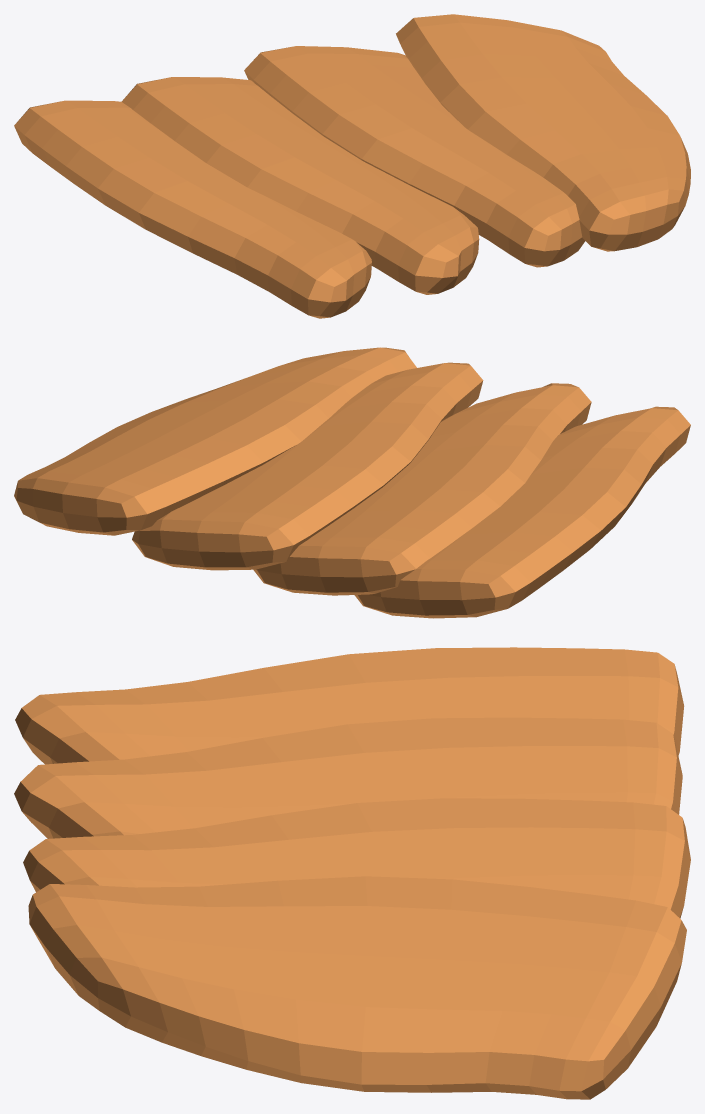
File: choppedsalmon.glb
The picture shows the model from 3 angles, top to bottom: view 1: azimuth 30°, elevation 25°; view 2: azimuth 150°, elevation 25°; view 3: azimuth 270°, elevation 25°; orthographic projection. The views are drawn at different scales.
Visible parts, largest first — view 1: choppedsalmon; view 2: choppedsalmon; view 3: choppedsalmon.
Boxes of the visible parts, bbox=[...] form: choppedsalmon: bbox=[14, 14, 690, 318]; choppedsalmon: bbox=[14, 347, 690, 618]; choppedsalmon: bbox=[14, 647, 690, 1099].
Size of the model in its own units: 3.39 by 0.5091 by 2.69.
